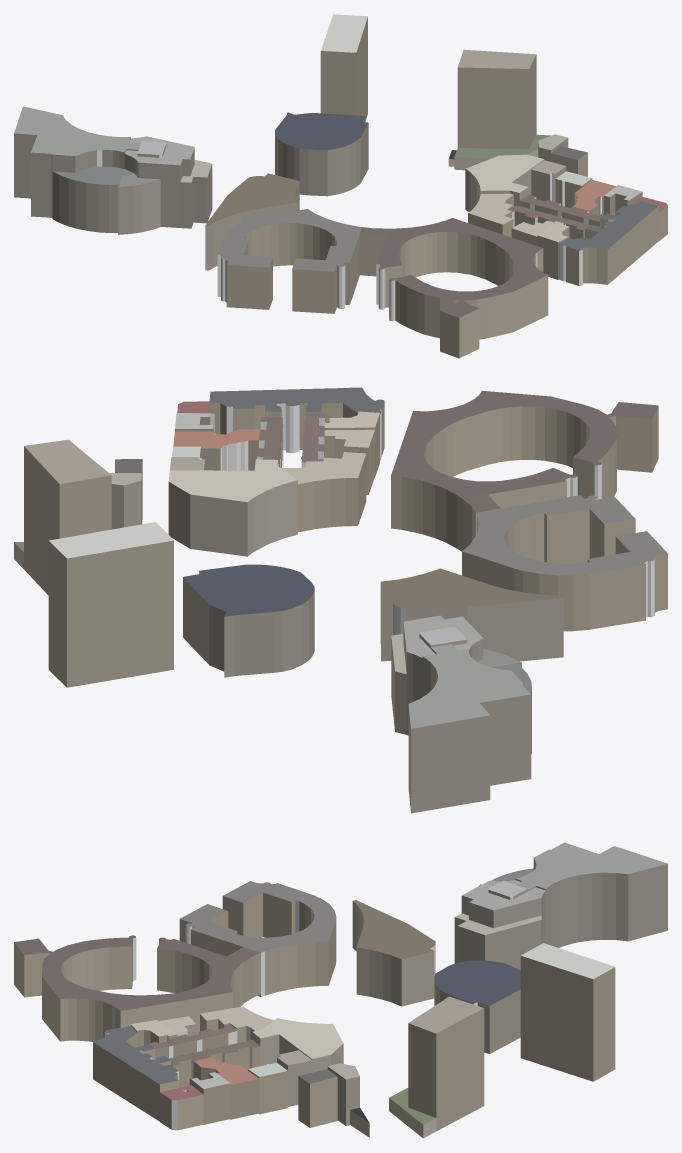
The picture shows the model from 3 angles, top to bottom: view 1: azimuth 30°, elevation 25°; view 2: azimuth 150°, elevation 25°; view 3: azimuth 270°, elevation 25°; orthographic projection. The views are drawn at different scales.
Parts seen in each view (by area): view 1: tuile; view 2: tuile; view 3: tuile.
Boxes of the visible parts, <box> form: tuile: <box>14,14,667,358</box>; tuile: <box>14,387,667,813</box>; tuile: <box>14,842,667,1138</box>.
Bounding box in the file's own units: 277 × 60.98 × 327.
